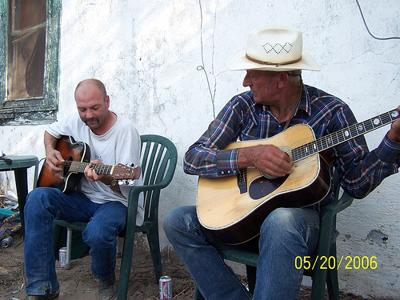person: (23, 78, 144, 300)
